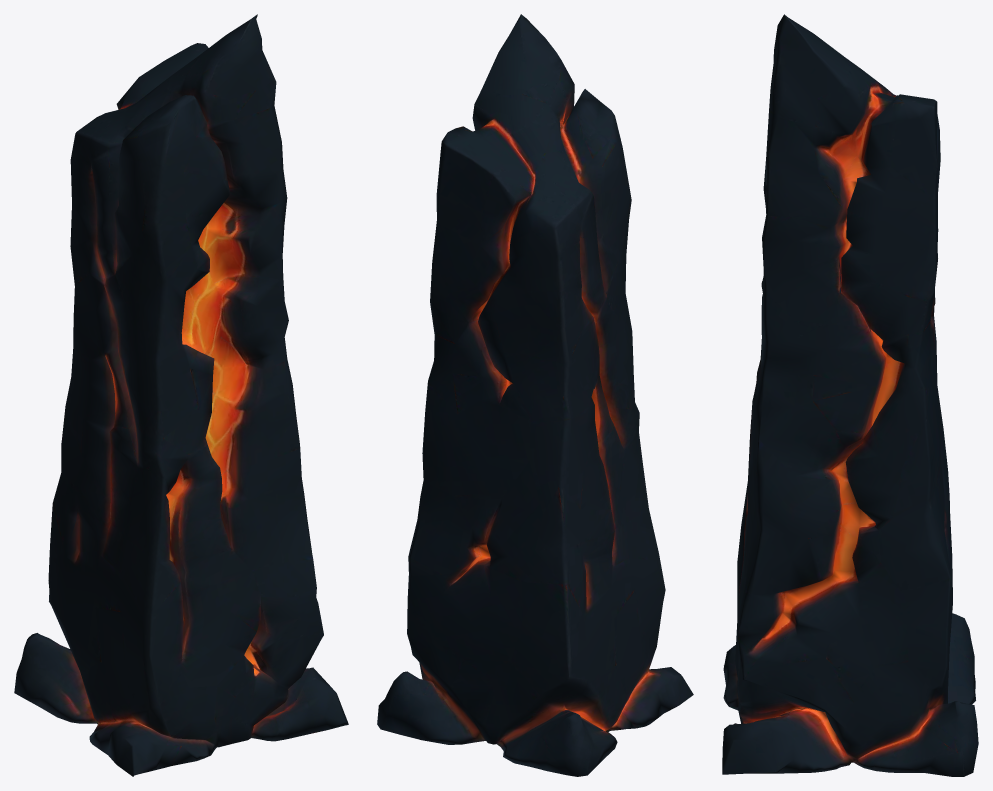
File: lavaPillar.glb
The picture shows the model from 3 angles, left to right: view 1: azimuth 30°, elevation 25°; view 2: azimuth 150°, elevation 25°; view 3: azimuth 270°, elevation 25°; orthographic projection. The views are drawn at different scales.
Size of the model in its own units: 0.3149 by 0.9526 by 0.3032.
1 material, 1 textured.
